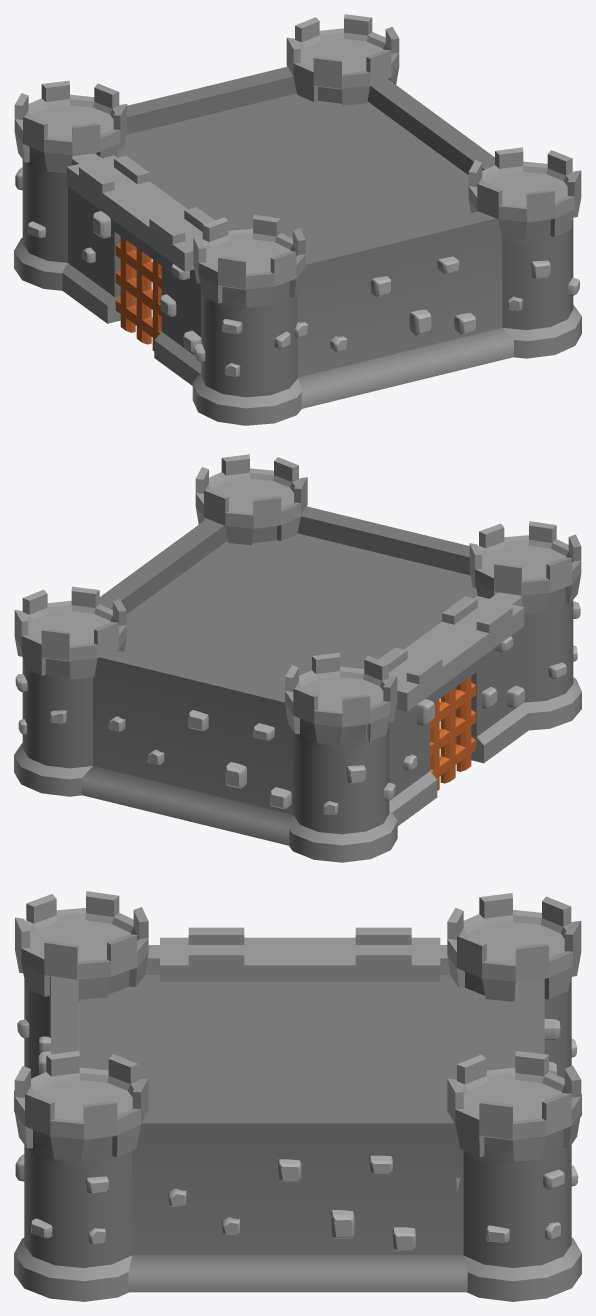
The model's file is Castle_1.fbx.
3 renders of one model, top to bottom at view 1: azimuth 30°, elevation 25°; view 2: azimuth 150°, elevation 25°; view 3: azimuth 270°, elevation 25°, orthographic. The views are drawn at different scales.
Visible parts, largest first — view 1: polySurface158.001; view 2: polySurface158.001; view 3: polySurface158.001.
Boxes of the visible parts, left/top/right/bottom form: polySurface158.001: left=14, top=14, right=581, bottom=425; polySurface158.001: left=14, top=454, right=581, bottom=862; polySurface158.001: left=14, top=891, right=581, bottom=1301.
Size of the model in its own units: 3159 by 1345 by 3494.
